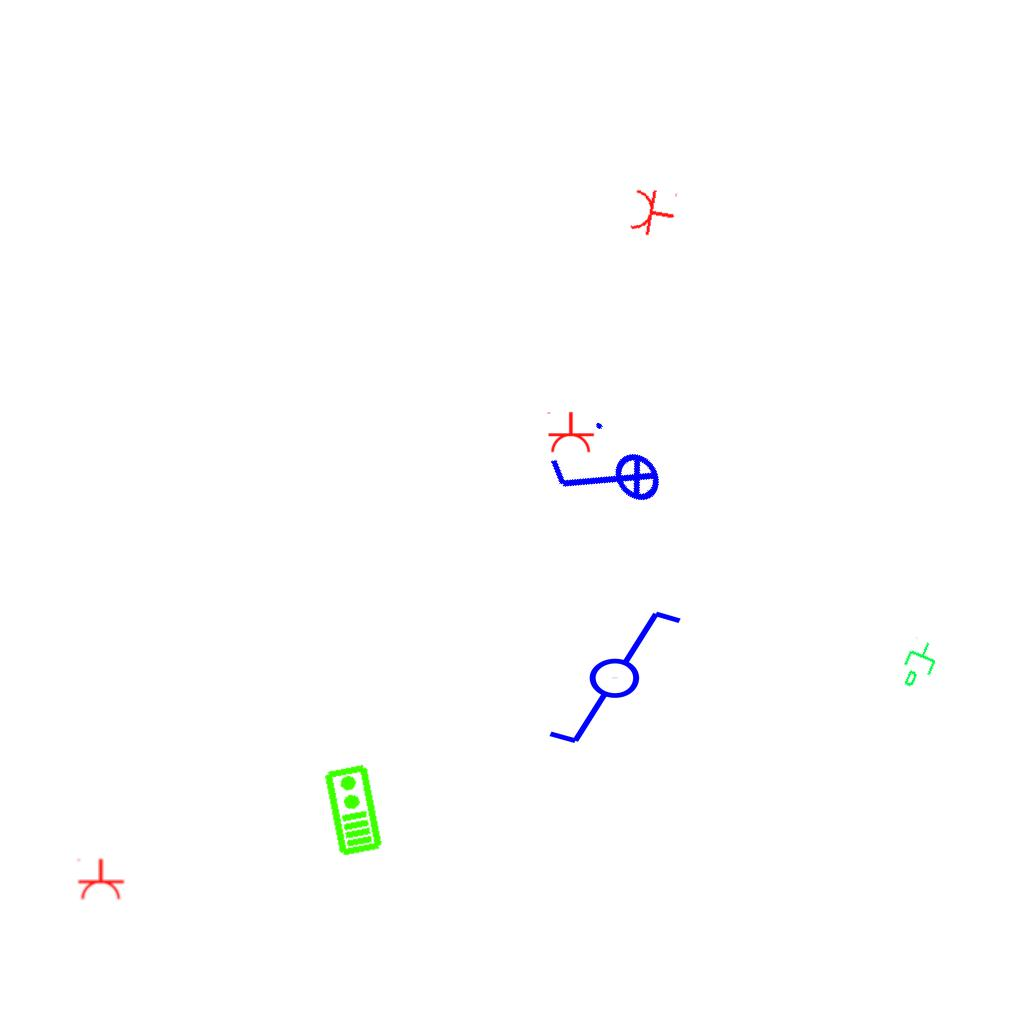Ausschalter_beleuchtet: (533, 405, 679, 553)
Datenanschluss_einfach: (894, 635, 946, 695)
Gegensprechanlage_mit_Video: (321, 762, 384, 858)
Schukosteckdose_einfach: (627, 183, 680, 241), (75, 858, 125, 901), (545, 411, 595, 454)
Wechselschalter: (528, 604, 685, 748)
